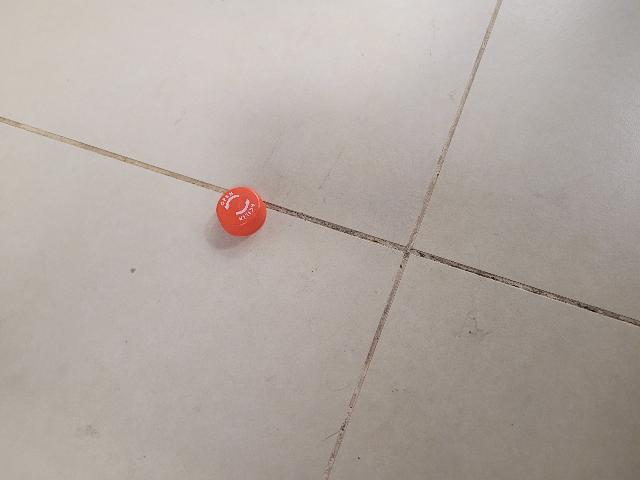Plastik: (212, 177, 275, 246)
